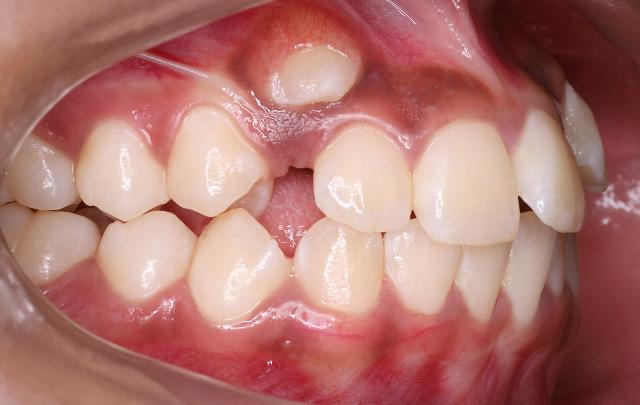canine class II 1/4: (187, 4, 387, 332)
molar class II 1/4: (10, 135, 94, 284)
